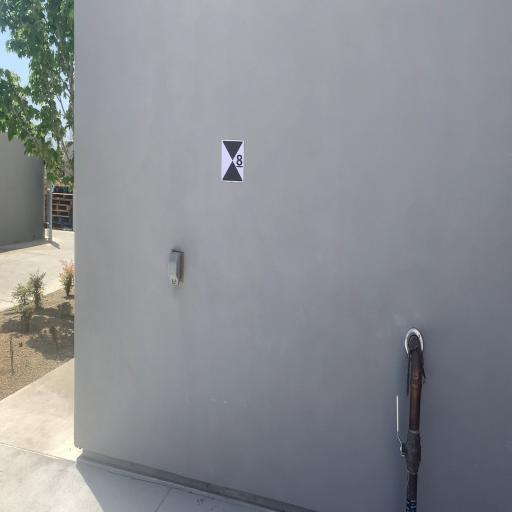target8: (222, 141, 245, 182)
